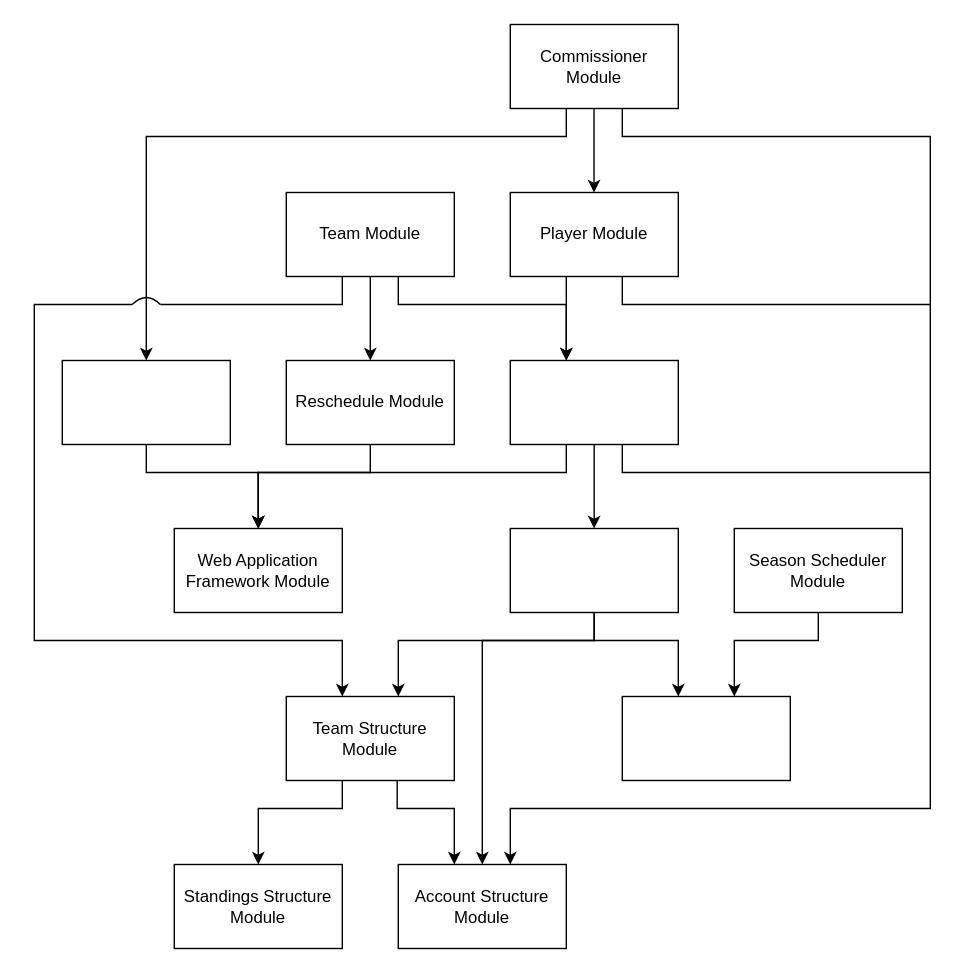
Image size: 966x973. Some labels were removed from this diagram. Each missing label, with the box of its shape:
Accounts Module: (509, 359, 678, 444)
Alerts Module: (61, 359, 230, 444)
Database Module: (509, 527, 678, 612)
Schedule Structure Module: (621, 695, 790, 780)
